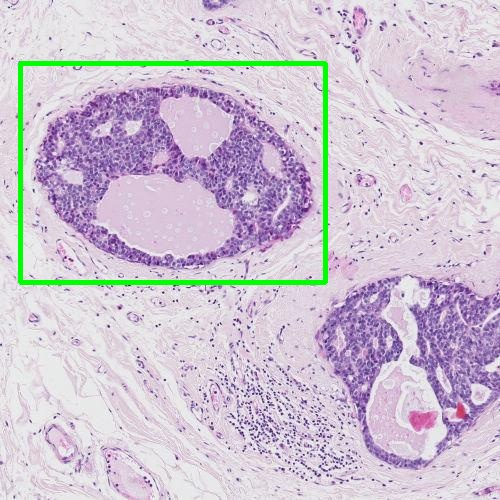DCIS: (20, 63, 325, 282)
